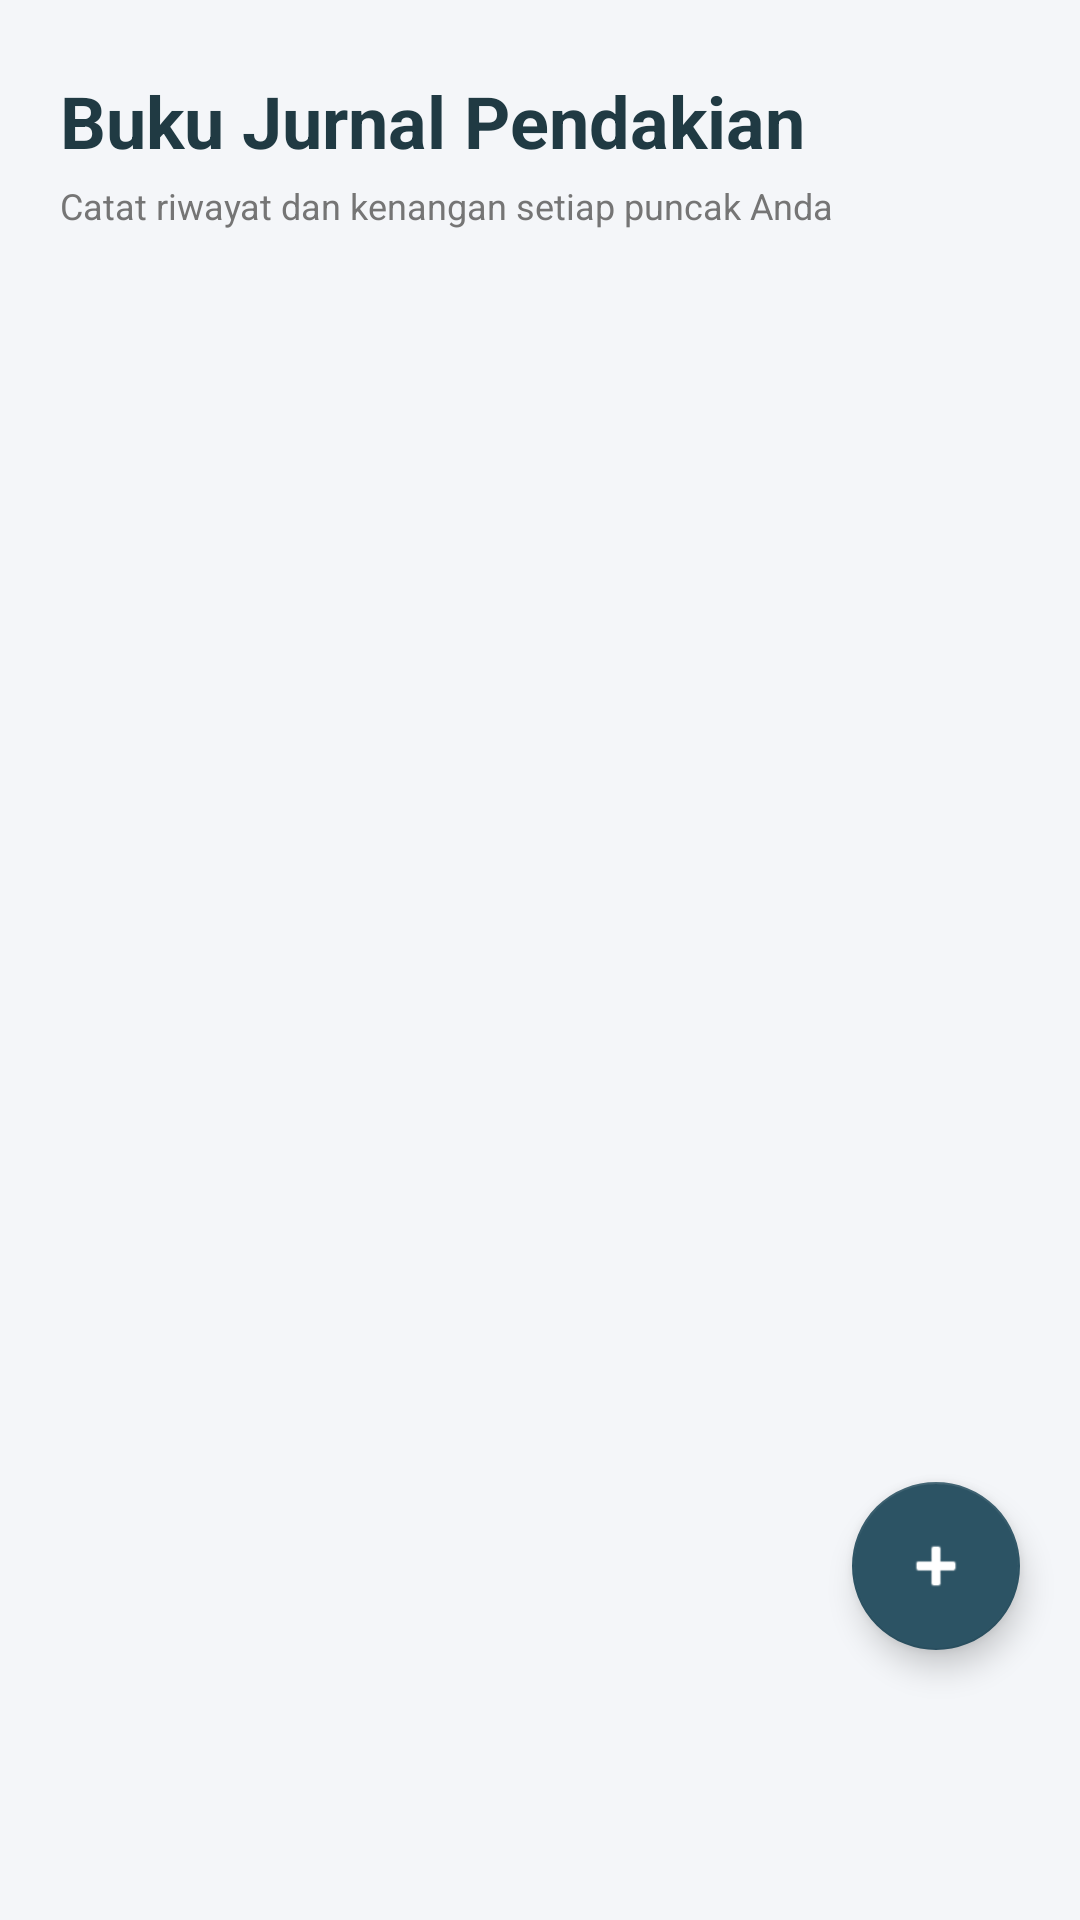

Where icons sit on this 1080px×1920px app screen, as (x1, y1, x2, y2):
Tambah Jurnal: (852, 1482, 1020, 1650)
